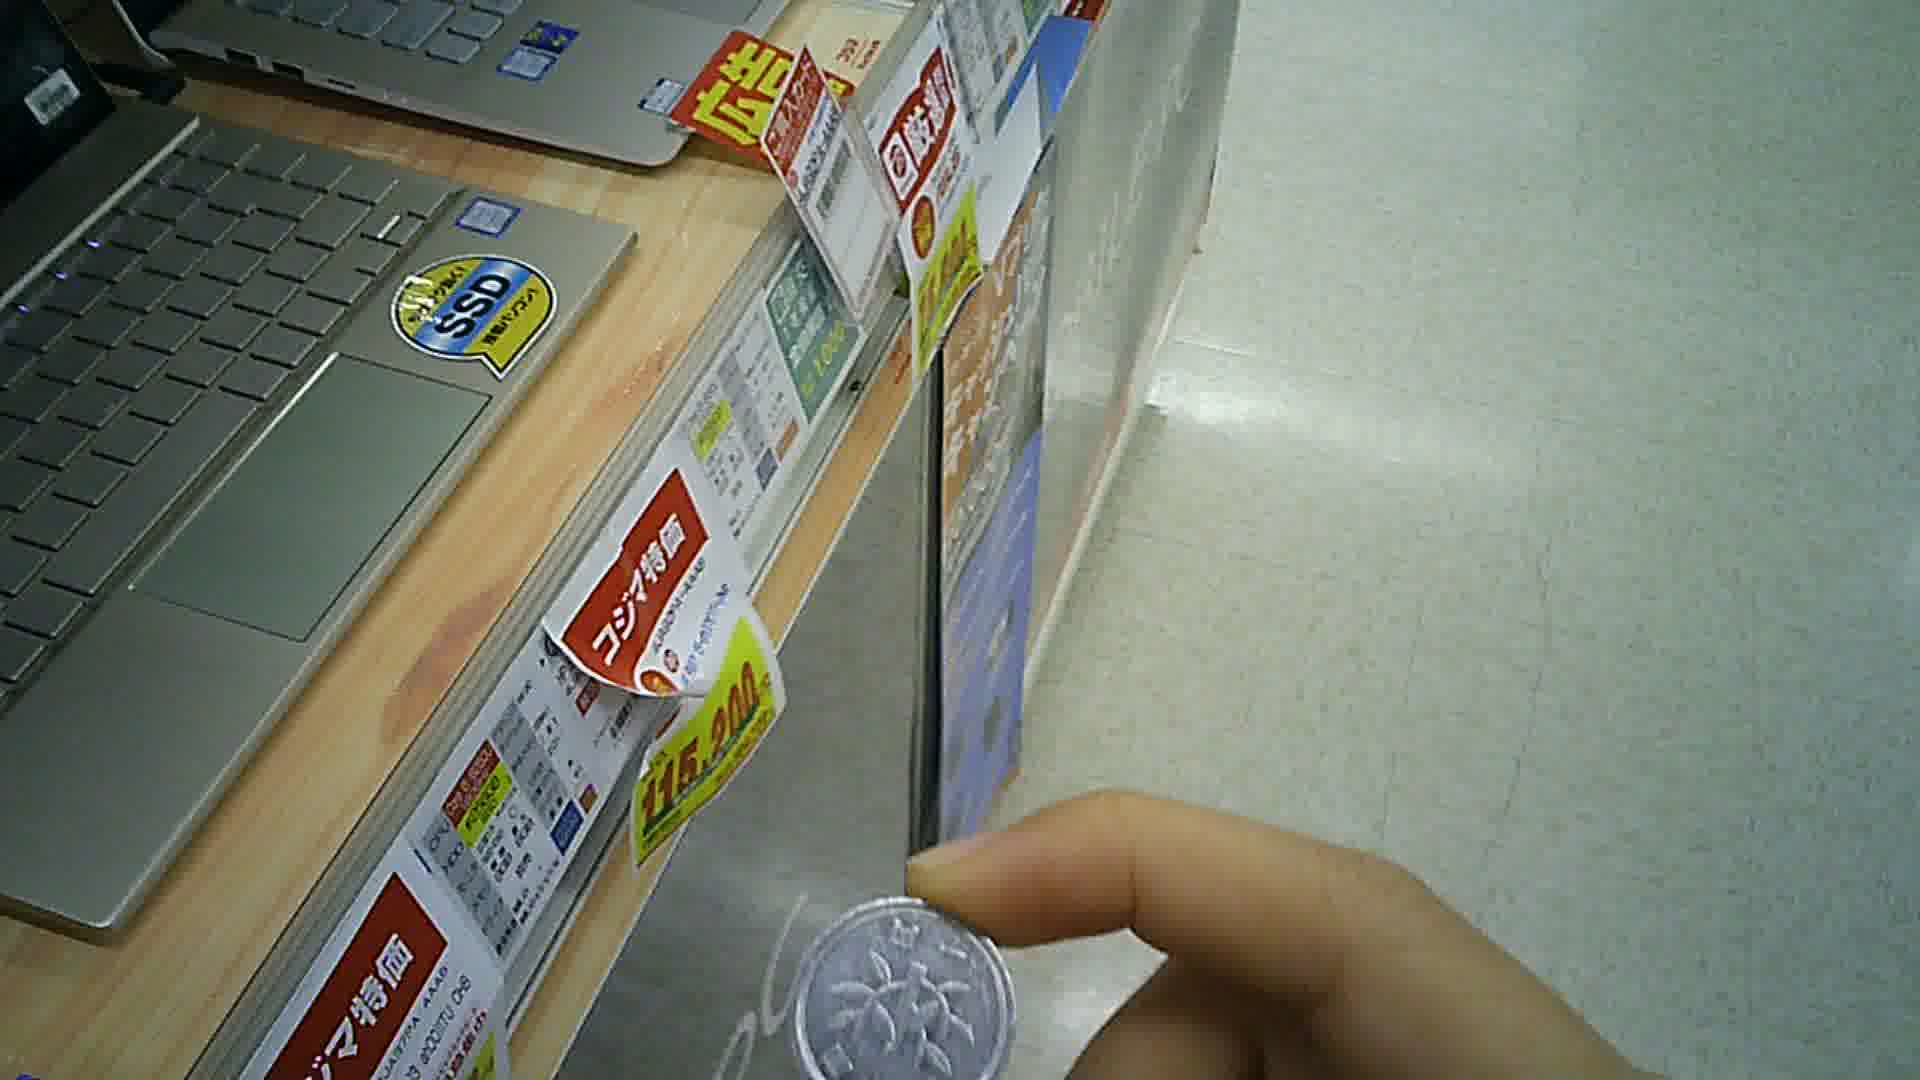1 Yen: (794, 887, 1025, 1073)
